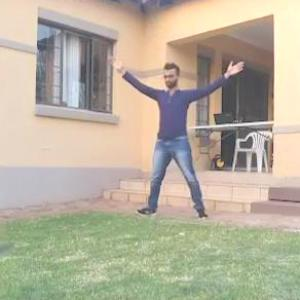takeoff: (116, 63, 241, 216)
